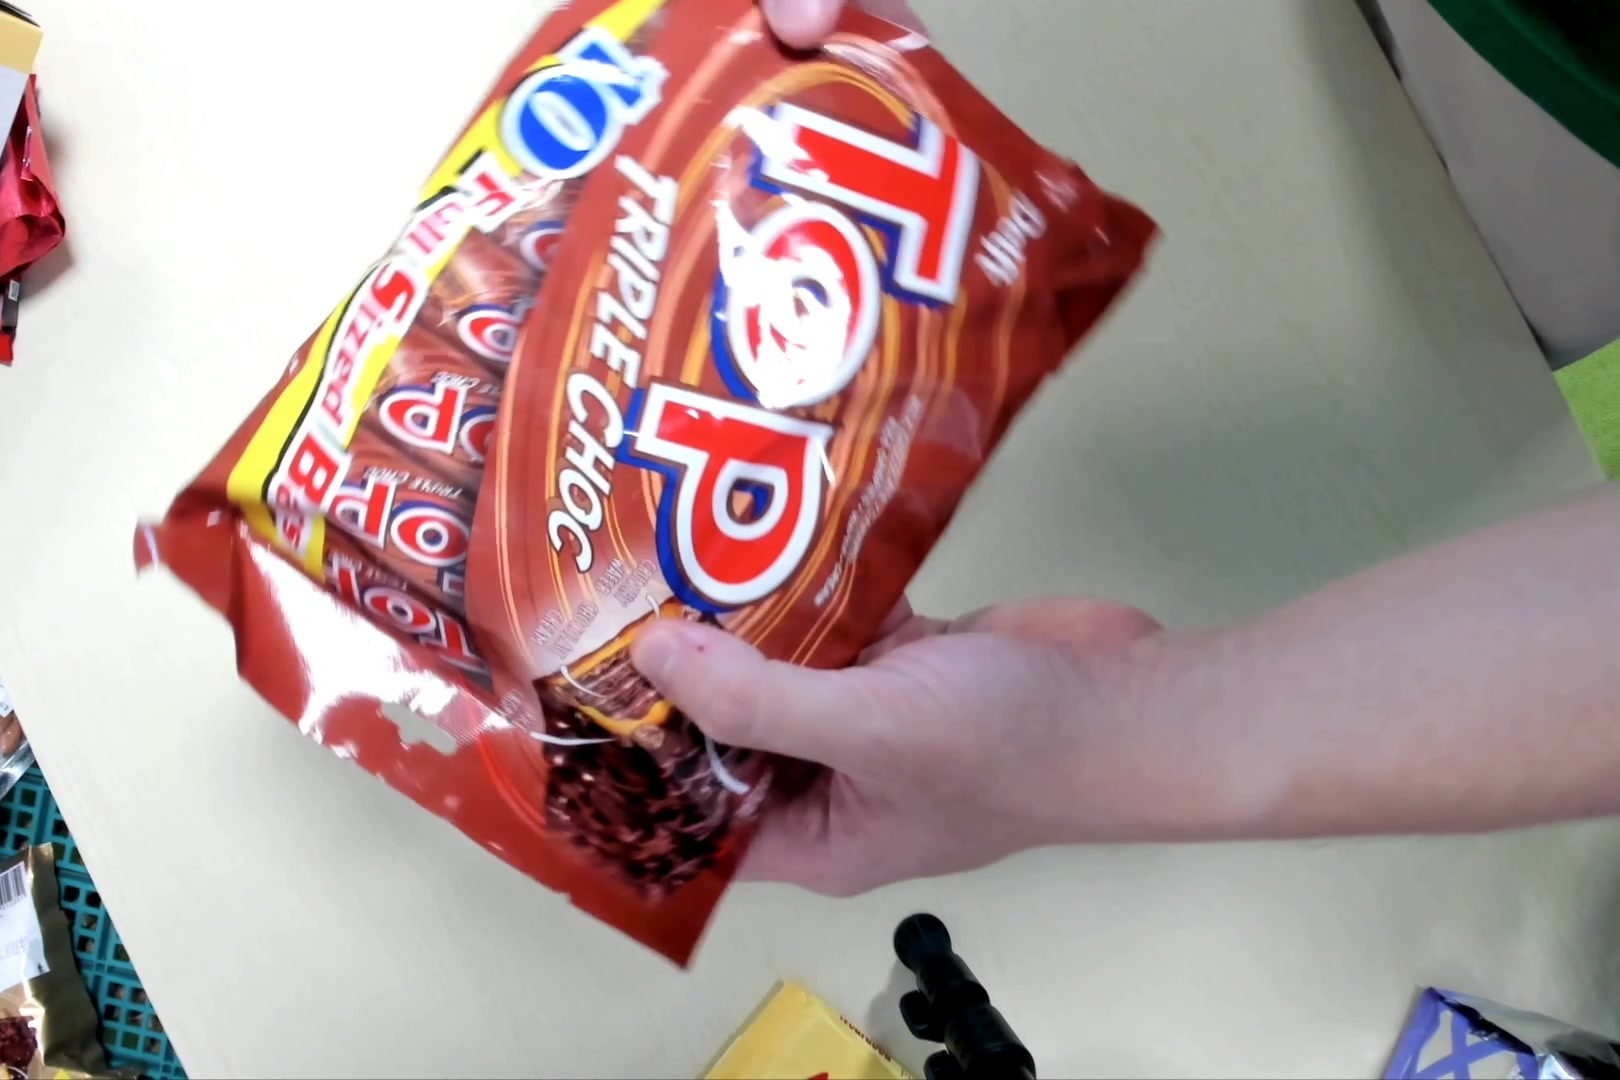SweetsChocolatesOthers_100-199g_NonHalal_NonHealthy: (174, 1, 1155, 984)
